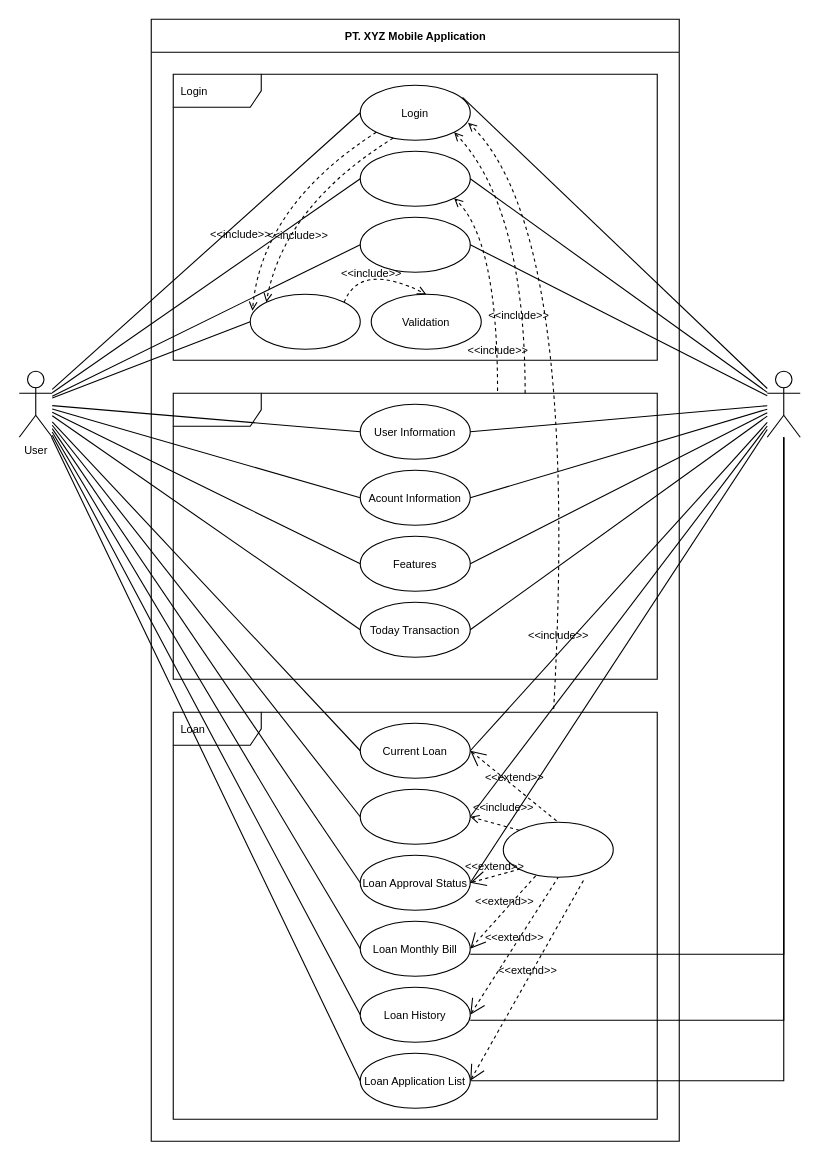
Some shapes in this 825 by 1161 pixel diagram are drawn without their labels. Each missing label, with the box of its shape:
Approver: (766, 370, 800, 437)
Dashboard: (172, 392, 657, 679)
Loan Application: (502, 821, 613, 877)
Login Biometric: (359, 150, 470, 206)
Request Loan: (359, 788, 470, 844)
Reset Password: (359, 216, 470, 272)
SignUp: (249, 293, 360, 349)
